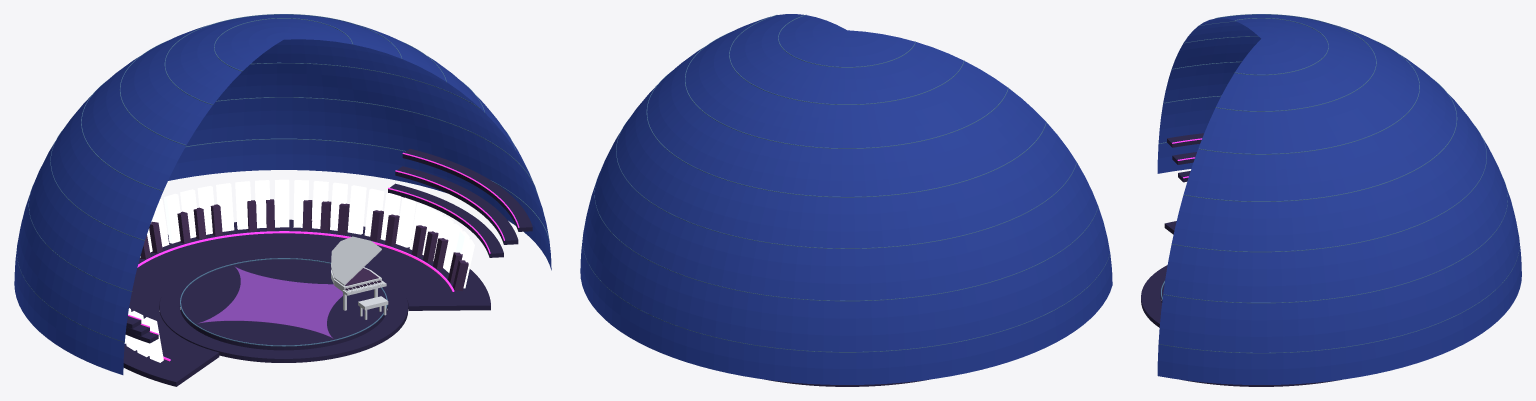
The model's file is keyring-material.glb.
The picture shows the model from 3 angles, left to right: view 1: azimuth 30°, elevation 25°; view 2: azimuth 150°, elevation 25°; view 3: azimuth 270°, elevation 25°; orthographic projection. The views are drawn at different scales.
Visible parts, largest first — view 1: finite-media-surface-unresolved, stage-outer-floor, stage-central-solid, stage-step-ring, four-point-concave-floor-inlay, upper-terrace-1-2, upper-terrace-1-1, upper-terrace-1-0, piano-open-lid, key-pink-ring, white-key-27, inner-luminous-rim (+18 smaller); view 2: finite-media-surface-unresolved, media-grid-lat-05, media-grid-lat-08, media-grid-lat-11, media-grid-lat-02, media-grid-lat-14; view 3: finite-media-surface-unresolved, stage-step-ring, media-grid-lat-08, media-grid-lat-05, media-grid-lat-11, media-grid-lat-02, media-grid-lat-14, media-grid-lat-17, stage-outer-floor, upper-terrace--1-2.
Boxes of the visible parts, x1,y1,x2,y2 form: finite-media-surface-unresolved: (14, 14, 551, 374); stage-outer-floor: (123, 219, 490, 386); stage-central-solid: (180, 259, 387, 350); stage-step-ring: (159, 254, 408, 362); four-point-concave-floor-inlay: (198, 266, 342, 338); upper-terrace-1-2: (402, 148, 532, 231); upper-terrace-1-1: (395, 166, 518, 244); upper-terrace-1-0: (388, 183, 503, 257); piano-open-lid: (331, 236, 381, 285); key-pink-ring: (137, 231, 454, 361); white-key-27: (347, 185, 366, 234); inner-luminous-rim: (180, 258, 387, 346); finite-media-surface-unresolved: (580, 14, 1112, 384); media-grid-lat-05: (594, 173, 1098, 301); media-grid-lat-08: (616, 119, 1076, 248); media-grid-lat-11: (646, 71, 1046, 197); media-grid-lat-02: (582, 234, 1110, 352); media-grid-lat-14: (685, 31, 1008, 148); finite-media-surface-unresolved: (1157, 14, 1521, 384); stage-step-ring: (1141, 265, 1167, 327); media-grid-lat-08: (1171, 61, 1486, 252); media-grid-lat-05: (1163, 96, 1507, 303); media-grid-lat-11: (1183, 36, 1457, 201); media-grid-lat-02: (1159, 142, 1519, 353); media-grid-lat-14: (1198, 21, 1419, 154); media-grid-lat-17: (1215, 14, 1376, 111); stage-outer-floor: (1164, 221, 1341, 386); upper-terrace--1-2: (1167, 133, 1203, 147).
Bounding box in the file's own units: 25.99 × 14.5 × 19.
